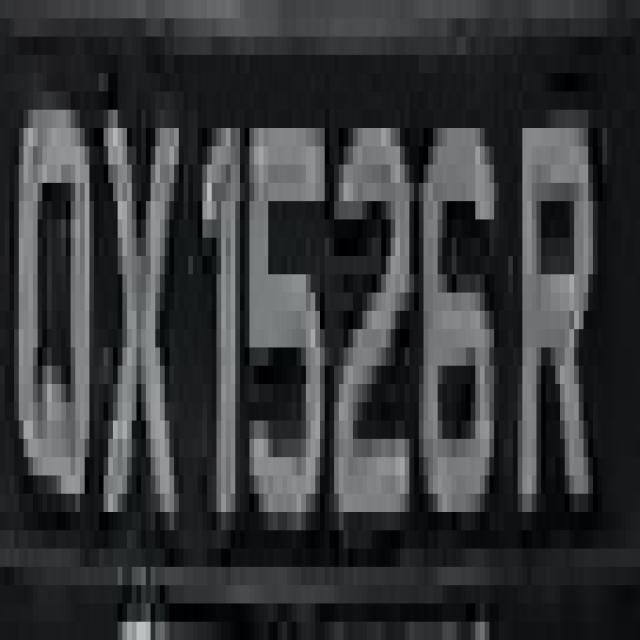1: (202, 73, 245, 567)
2: (325, 91, 419, 604)
5: (240, 37, 325, 585)
6: (409, 91, 499, 567)
Q: (14, 55, 94, 548)
R: (508, 91, 607, 548)
X: (94, 73, 184, 549)
